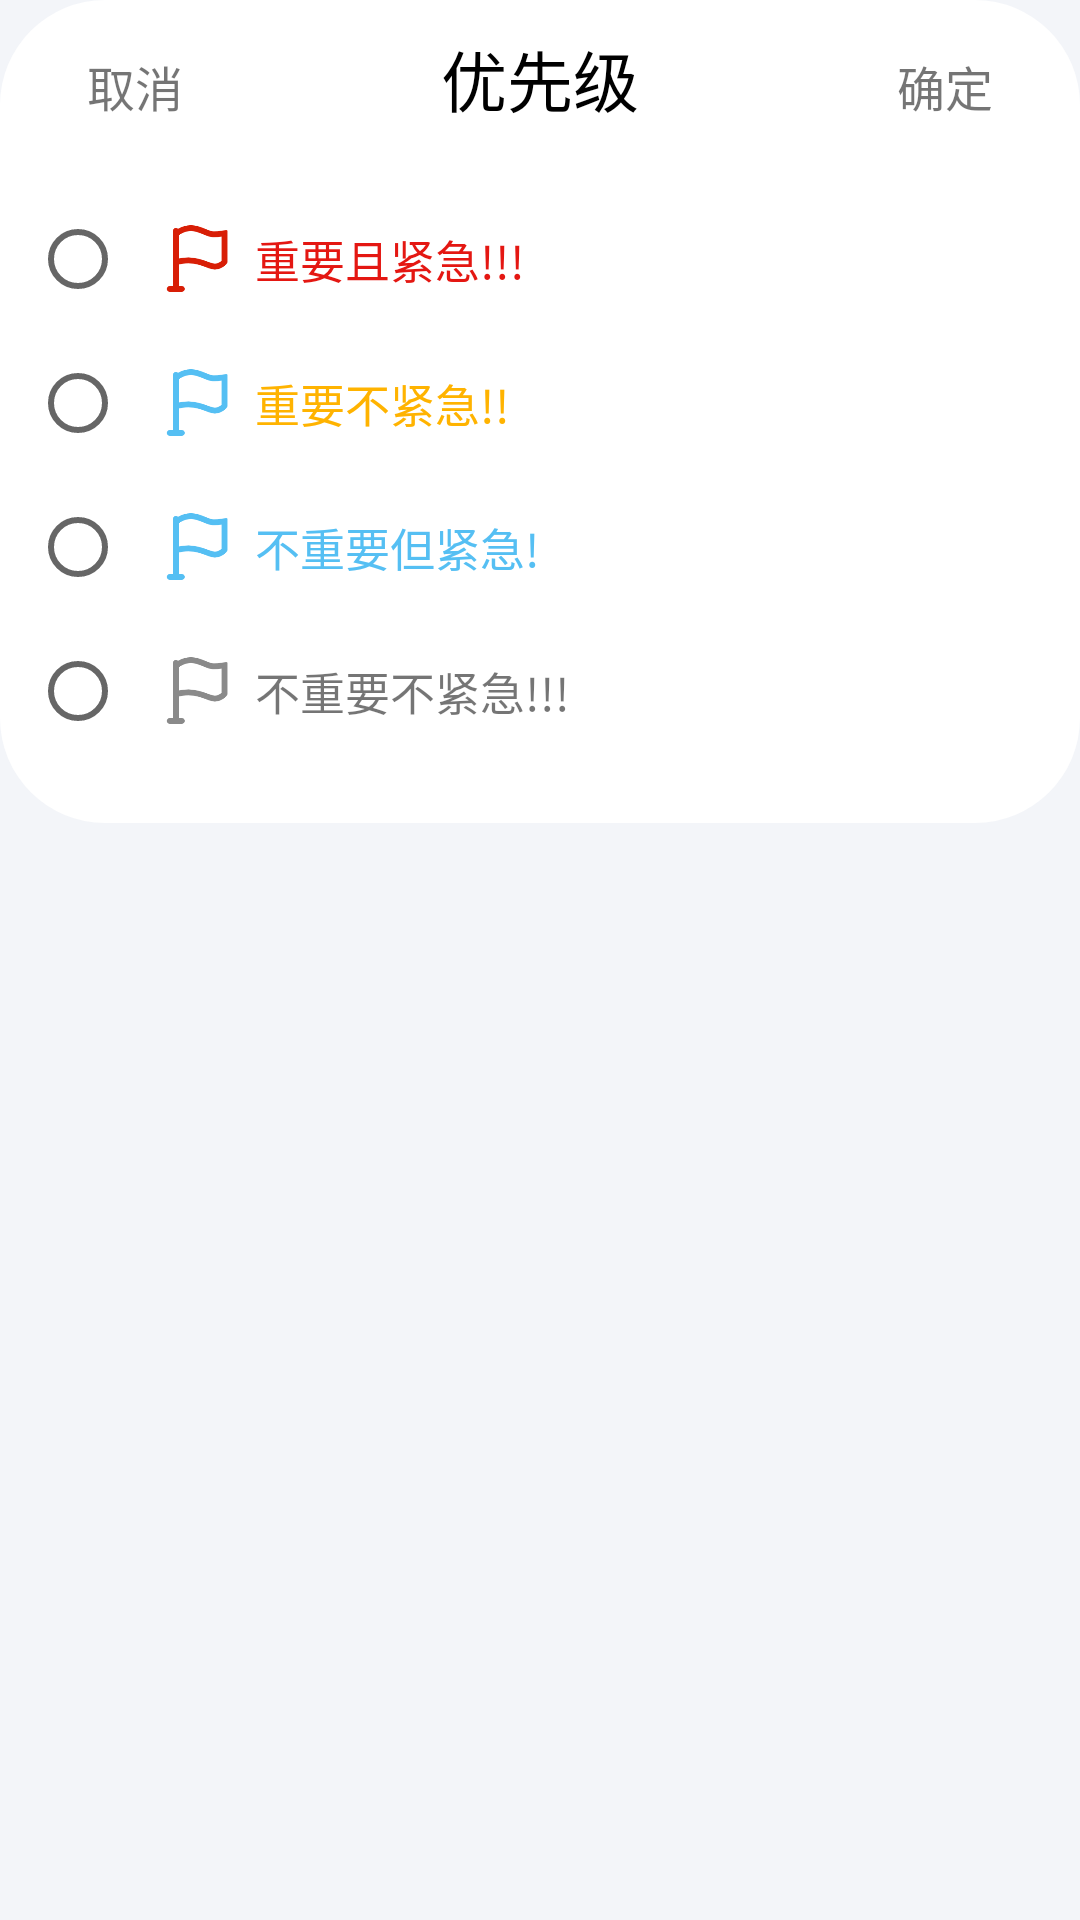

Icons on this 1080x1920 Android screen, each with the point to tap as point (x, y):
priority: point (197, 258), point (197, 402), point (197, 546), point (197, 690)
